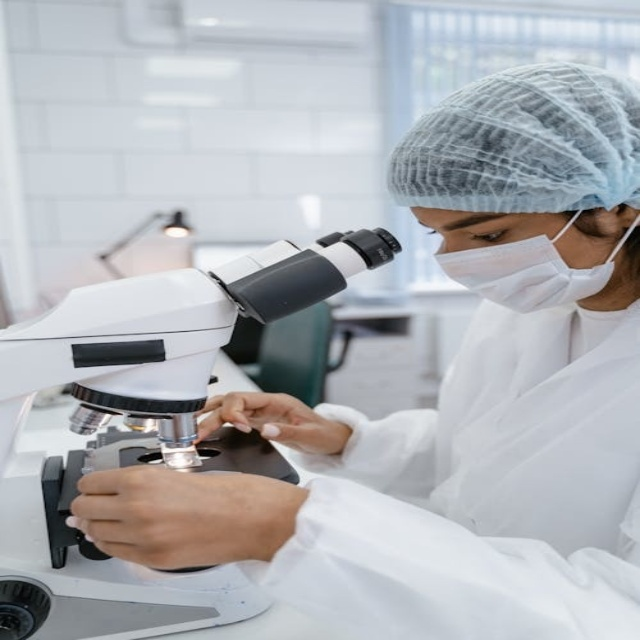Mascara: (433, 208, 627, 316)
Sin_gafas: (415, 212, 534, 250)
Sin_guantes: (70, 464, 293, 571), (201, 390, 351, 460)
